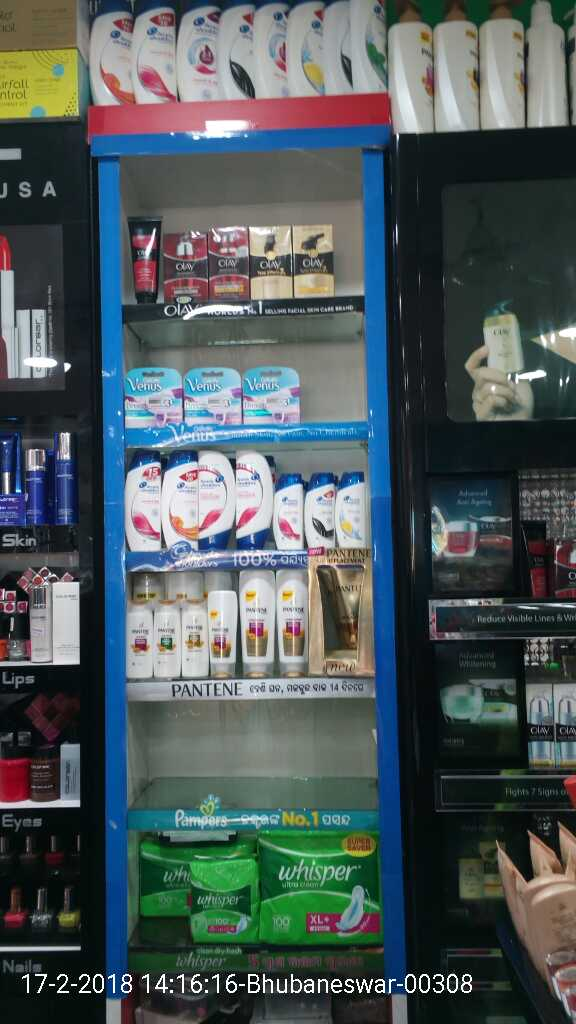venus: (125, 366, 183, 427), (183, 366, 243, 424), (243, 365, 301, 424)
